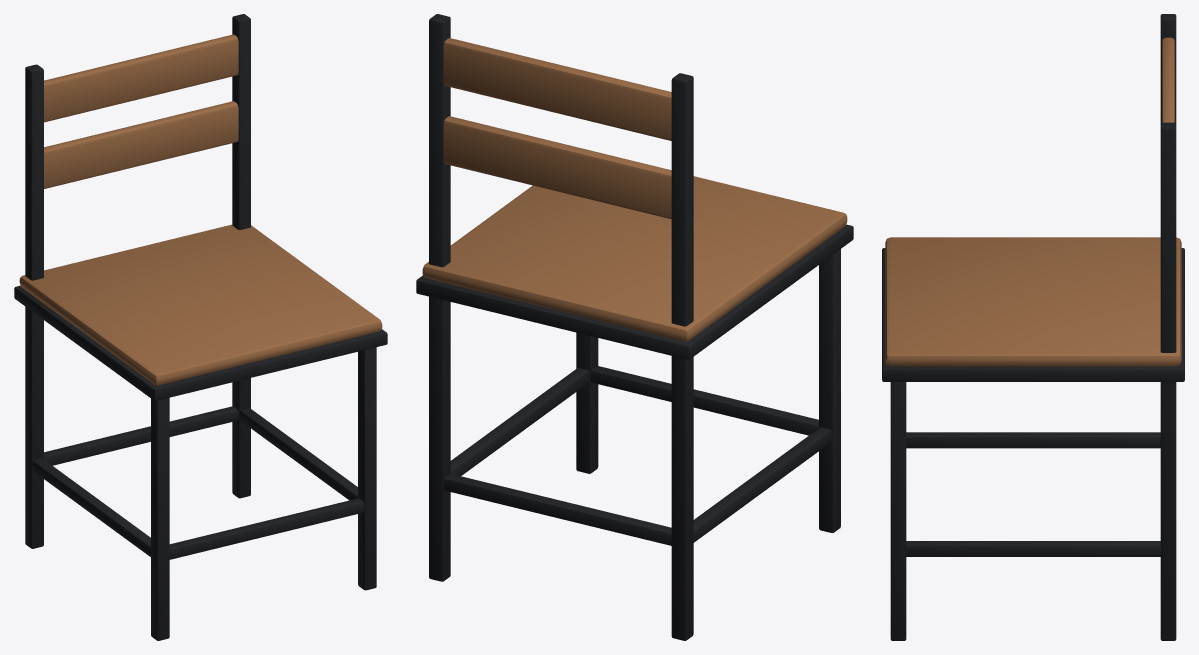
Rendered from chair_metal.glb.
3 renders of one model, left to right at view 1: azimuth 30°, elevation 25°; view 2: azimuth 150°, elevation 25°; view 3: azimuth 270°, elevation 25°, orthographic. The views are drawn at different scales.
Visible parts, largest first — view 1: box.009, box.001, box.011, box.010, box.008, box.004, box, box.003, box.006, box.007, box.002, box.005; view 2: box.009, box.001, box.011, box.010, box.004, box.008, box, box.007, box.006, box.002, box.005, box.003; view 3: box.009, box.004, box.008, box.003, box.002, box.005, box.011, box.001.
Part boxes in pixels (x1=…): box.009: x1=19, y1=224, x2=382, y2=385; box.001: x1=25, y1=64, x2=43, y2=548; box.011: x1=44, y1=34, x2=238, y2=122; box.010: x1=44, y1=101, x2=238, y2=188; box.008: x1=14, y1=285, x2=387, y2=400; box.004: x1=232, y1=14, x2=250, y2=498; box: x1=151, y1=397, x2=169, y2=640; box.003: x1=358, y1=347, x2=376, y2=590; box.006: x1=169, y1=498, x2=364, y2=559; box.007: x1=44, y1=406, x2=238, y2=465; box.002: x1=32, y1=458, x2=150, y2=556; box.005: x1=240, y1=408, x2=357, y2=500; box.009: x1=422, y1=176, x2=847, y2=341; box.001: x1=671, y1=73, x2=693, y2=640; box.011: x1=443, y1=38, x2=671, y2=140; box.010: x1=443, y1=116, x2=671, y2=219; box.004: x1=429, y1=14, x2=450, y2=581; box.008: x1=416, y1=224, x2=853, y2=359; box: x1=819, y1=249, x2=840, y2=532; box.007: x1=443, y1=473, x2=671, y2=545; box.006: x1=591, y1=366, x2=818, y2=435; box.002: x1=693, y1=427, x2=831, y2=542; box.005: x1=450, y1=368, x2=589, y2=476; box.003: x1=576, y1=332, x2=598, y2=473; box.009: x1=885, y1=237, x2=1181, y2=366; box.004: x1=1160, y1=122, x2=1176, y2=640; box.008: x1=882, y1=248, x2=1184, y2=381; box.003: x1=890, y1=382, x2=906, y2=640; box.002: x1=906, y1=432, x2=1160, y2=448; box.005: x1=906, y1=541, x2=1160, y2=556; box.011: x1=1162, y1=37, x2=1174, y2=122; box.001: x1=1160, y1=14, x2=1176, y2=123.
Size of the model in its own units: 44 by 86 by 46.
